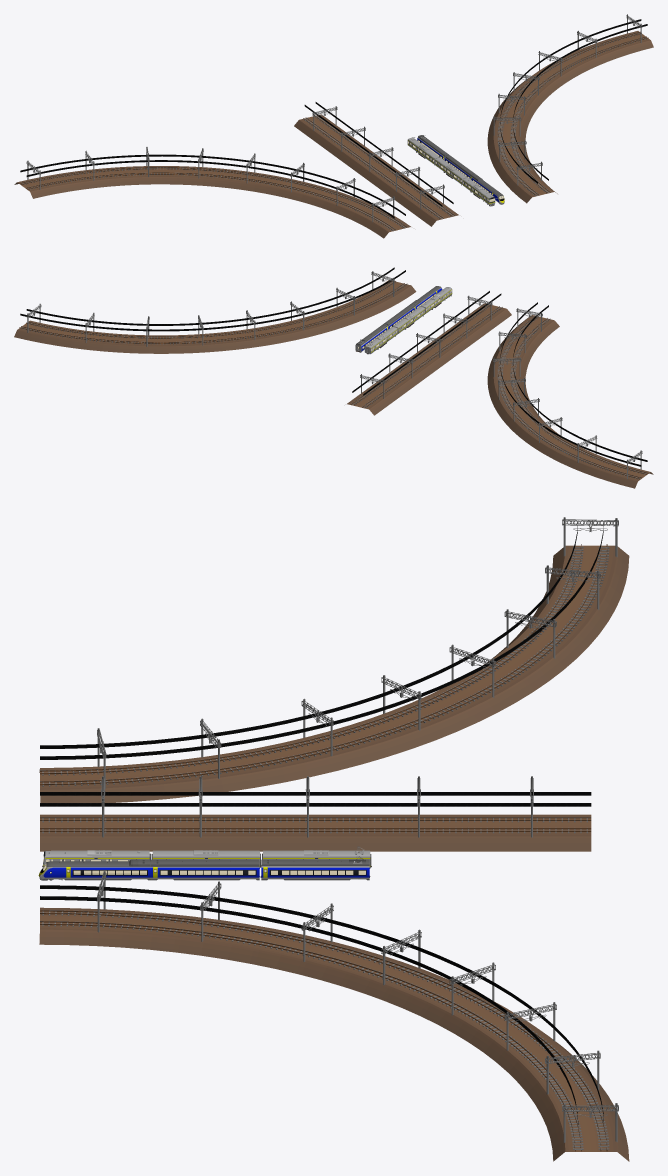
File: train.fbx
3 renders of one model, top to bottom at view 1: azimuth 30°, elevation 25°; view 2: azimuth 150°, elevation 25°; view 3: azimuth 270°, elevation 25°, orthographic. The views are drawn at different scales.
Parts seen in each view (by area): view 1: Rail.L, Rail.R, Straight rail, wire.L, wire.R, wire straight, Front carType B, Pantograph carType B, Intermediate carType B; view 2: Rail.R, Rail.L, Straight rail, wire.R, wire.L, wire straight, Pantograph carType B, Intermediate carType B, Front carType B; view 3: Rail.L, Rail.R, Straight rail, wire.L, wire.R, wire straight, Pantograph carType A, Intermediate carType A, Front carType A, Front carType B, Pantograph carType B, Intermediate carType B.
Boxes of the visible parts, <box> form: Rail.L: <box>14,166,410,238</box>; Rail.R: <box>487,31,653,203</box>; Straight rail: <box>294,114,458,226</box>; wire.L: <box>20,147,405,222</box>; wire.R: <box>493,14,647,185</box>; wire straight: <box>304,102,453,209</box>; Front carType B: <box>462,178,495,206</box>; Pantograph carType B: <box>407,137,440,165</box>; Intermediate carType B: <box>435,158,467,185</box>; Rail.R: <box>14,280,416,353</box>; Rail.L: <box>487,315,653,488</box>; Straight rail: <box>347,303,511,415</box>; wire.R: <box>20,267,405,346</box>; wire.L: <box>493,302,647,479</box>; wire straight: <box>352,291,501,398</box>; Pantograph carType B: <box>364,327,397,354</box>; Intermediate carType B: <box>392,306,425,333</box>; Front carType B: <box>420,287,452,313</box>; Rail.L: <box>39,544,629,802</box>; Rail.R: <box>39,907,629,1161</box>; Straight rail: <box>40,814,591,851</box>; wire.L: <box>40,517,618,788</box>; wire.R: <box>40,871,618,1142</box>; wire straight: <box>40,776,591,837</box>; Pantograph carType A: <box>260,855,370,880</box>; Intermediate carType A: <box>151,859,260,880</box>; Front carType A: <box>39,859,150,880</box>; Front carType B: <box>42,850,150,867</box>; Pantograph carType B: <box>262,846,371,868</box>; Intermediate carType B: <box>151,850,261,868</box>.
Bounding box in the file's own units: 265 × 9.77 × 109.
7 materials, 5 textured.
